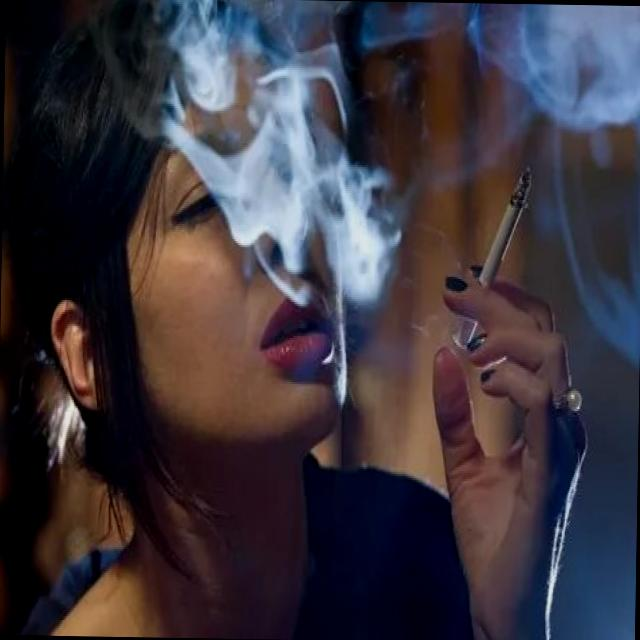cigarette: (450, 162, 532, 354)
